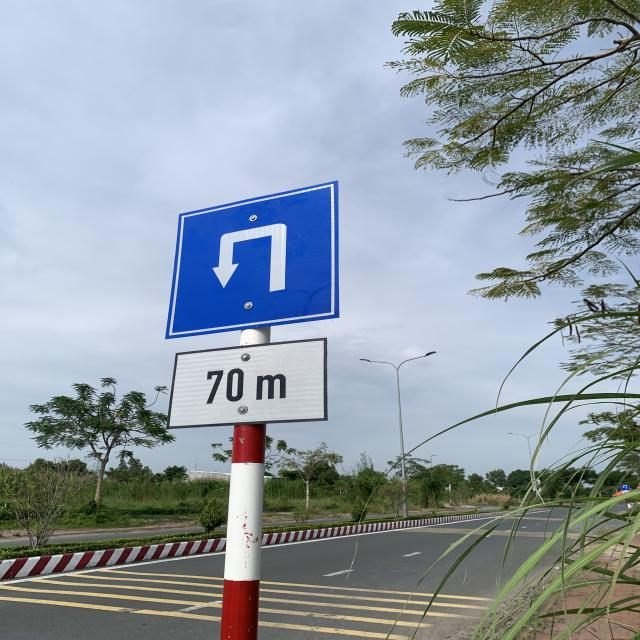Den_Giao_Thong: (168, 179, 336, 335)
